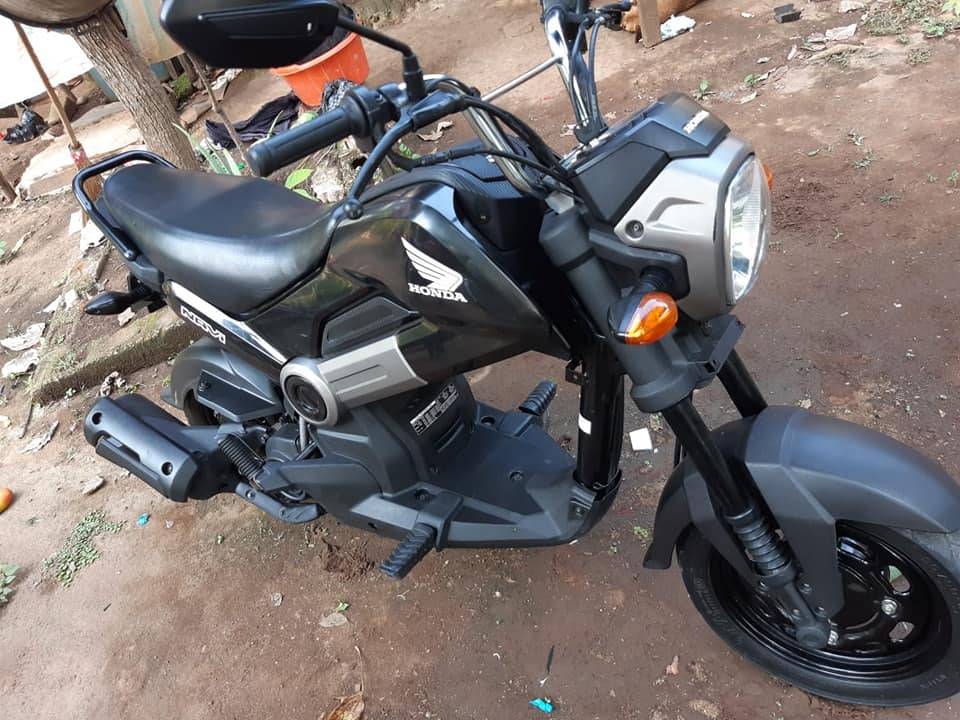moto: (64, 2, 960, 708)
